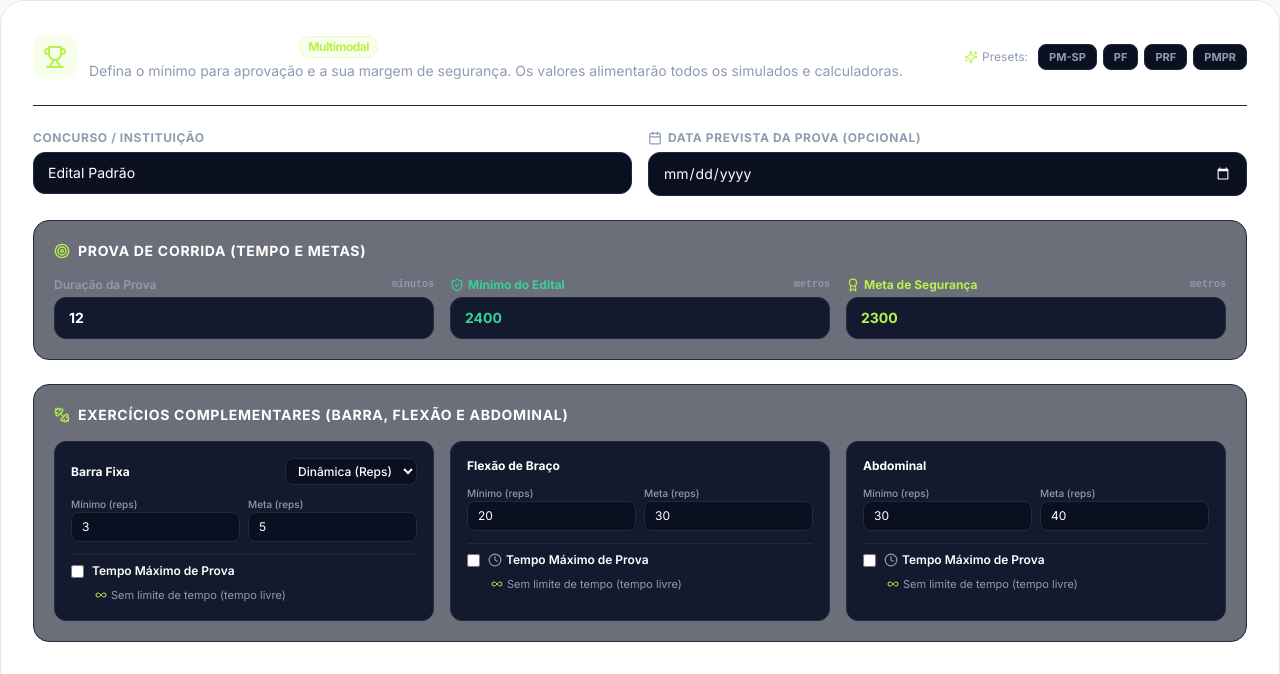
Test case: TafGoalConfigCard Component › aplica presets oficiais de concursos corretamente
Expected: the heading "Metas do TAF & Edital Multimodal" is shown, [89, 35, 378, 59]
Clica no preset PM-SP
Step 1. Click the button "PM-SP" → (1067, 57), box [1038, 44, 1097, 70]
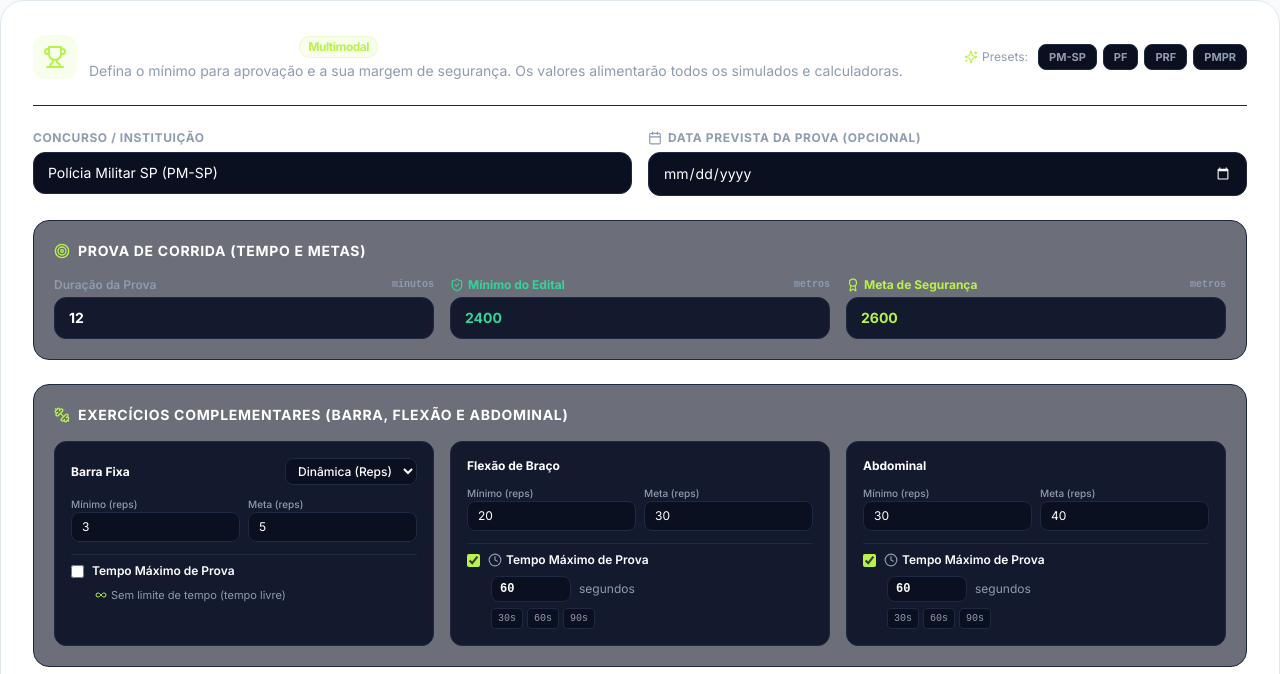
Expected: the number field showing "2400" below "Mínimo do Edital" is shown, [450, 297, 830, 339]
Now the field showing "Polícia Militar SP" is shown, box [33, 152, 632, 194]
Now the number field showing "2600" below "Meta de Segurança" is shown, box [846, 297, 1226, 339]
Clica no preset PF
Step 2. Click the button "PF" → (1121, 57), box [1103, 44, 1138, 70]
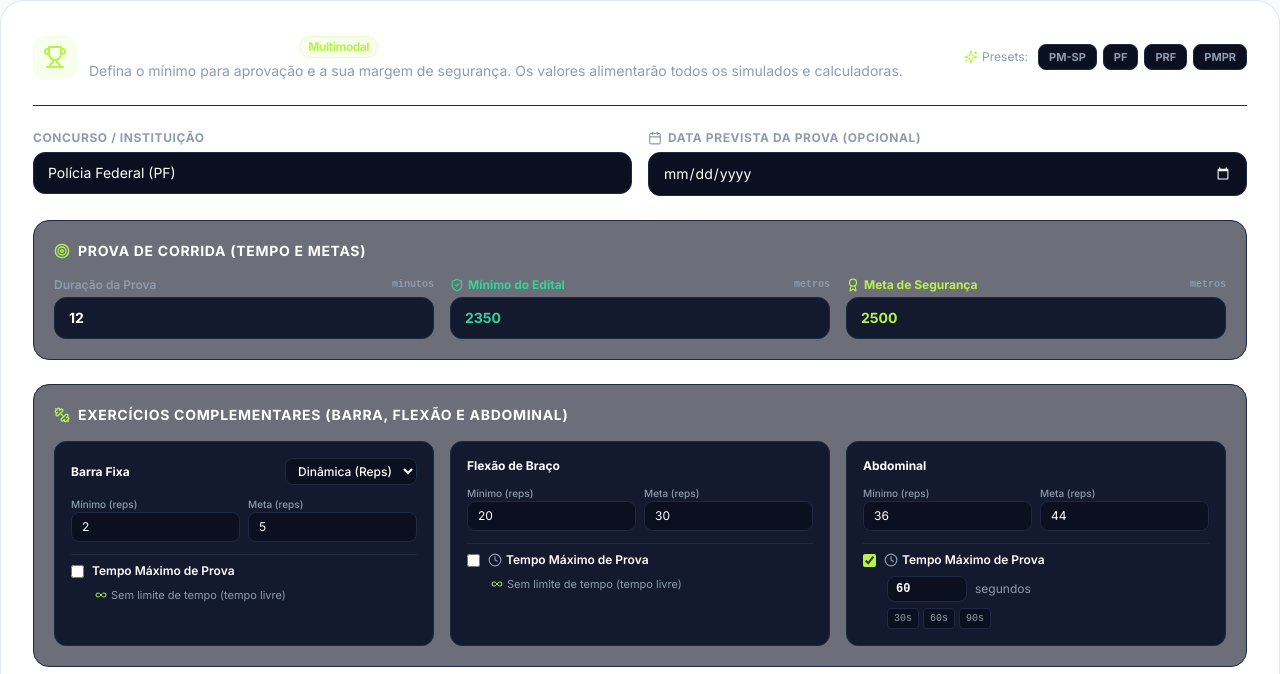
Now the field showing "Polícia Federal (PF)" is shown, box [33, 152, 632, 194]
Now the number field showing "2350" below "Mínimo do Edital" is shown, box [450, 297, 830, 339]
